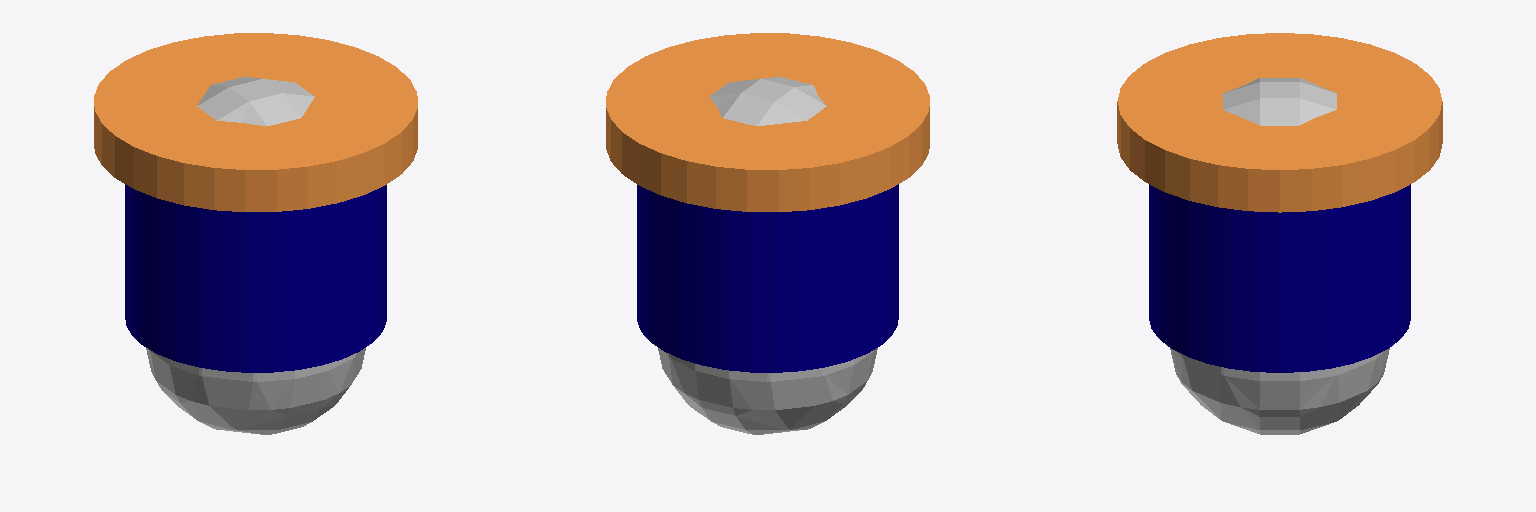
3 views of the same model, side by side, from view 1: azimuth 30°, elevation 25°; view 2: azimuth 150°, elevation 25°; view 3: azimuth 270°, elevation 25° (orthographic).
Parts seen in each view (by area): view 1: 圓柱體.001, 圓柱體, Mball_Mball.001; view 2: 圓柱體.001, 圓柱體, Mball_Mball.001; view 3: 圓柱體.001, 圓柱體, Mball_Mball.001.
Boxes of the visible parts, <box> form: 圓柱體.001: <box>94,33,417,211</box>; 圓柱體: <box>125,184,386,372</box>; Mball_Mball.001: <box>146,77,365,434</box>; 圓柱體.001: <box>606,33,929,211</box>; 圓柱體: <box>637,184,898,372</box>; Mball_Mball.001: <box>658,77,877,434</box>; 圓柱體.001: <box>1117,33,1442,212</box>; 圓柱體: <box>1149,184,1410,372</box>; Mball_Mball.001: <box>1170,78,1389,434</box>.
Size of the model in its own units: 2 by 2.25 by 2.
3 materials, 3 textured.